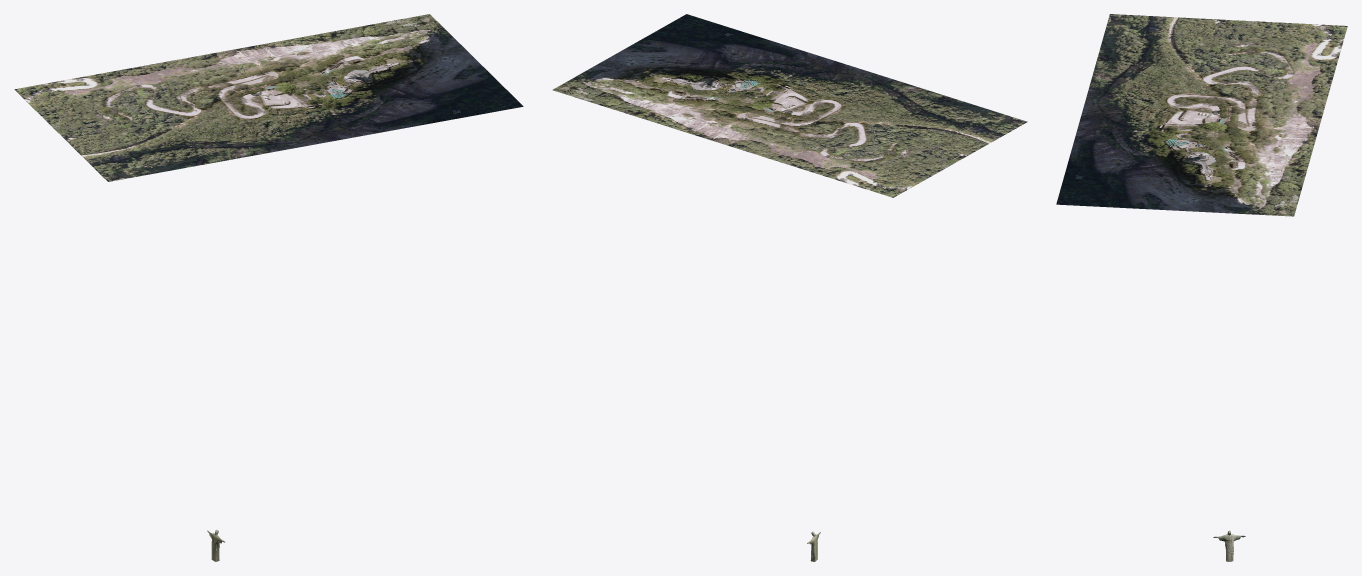
The model's file is cristo.gltf.
3 renders of one model, left to right at view 1: azimuth 30°, elevation 25°; view 2: azimuth 150°, elevation 25°; view 3: azimuth 270°, elevation 25°, orthographic. The views are drawn at different scales.
Parts seen in each view (by area): view 1: G-__555573; view 2: G-__555573; view 3: G-__555573.
Part boxes in pixels (x1,y1,x2,y2): G-__555573: (14,14,523,181); G-__555573: (552,14,1027,197); G-__555573: (1056,14,1347,216).
Bounding box in the file's own units: 443 × 474 × 270.
8 materials, 7 textured.
